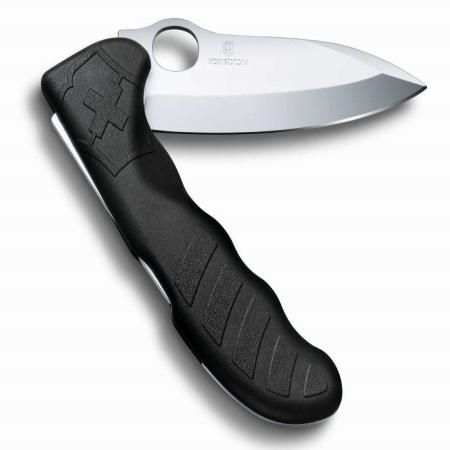long weapon: (138, 18, 439, 140)
